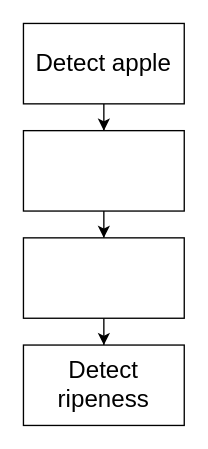
The diagram is 208 pixels wide and 449 high, and some of its shapes have lost their labels. The shapes that lost their labels are listed below. From the top down, each one's centre as x and y in pixels, then its label:
At (x=103, y=170): "Calculate position".
At (x=103, y=277): "Move towards".
